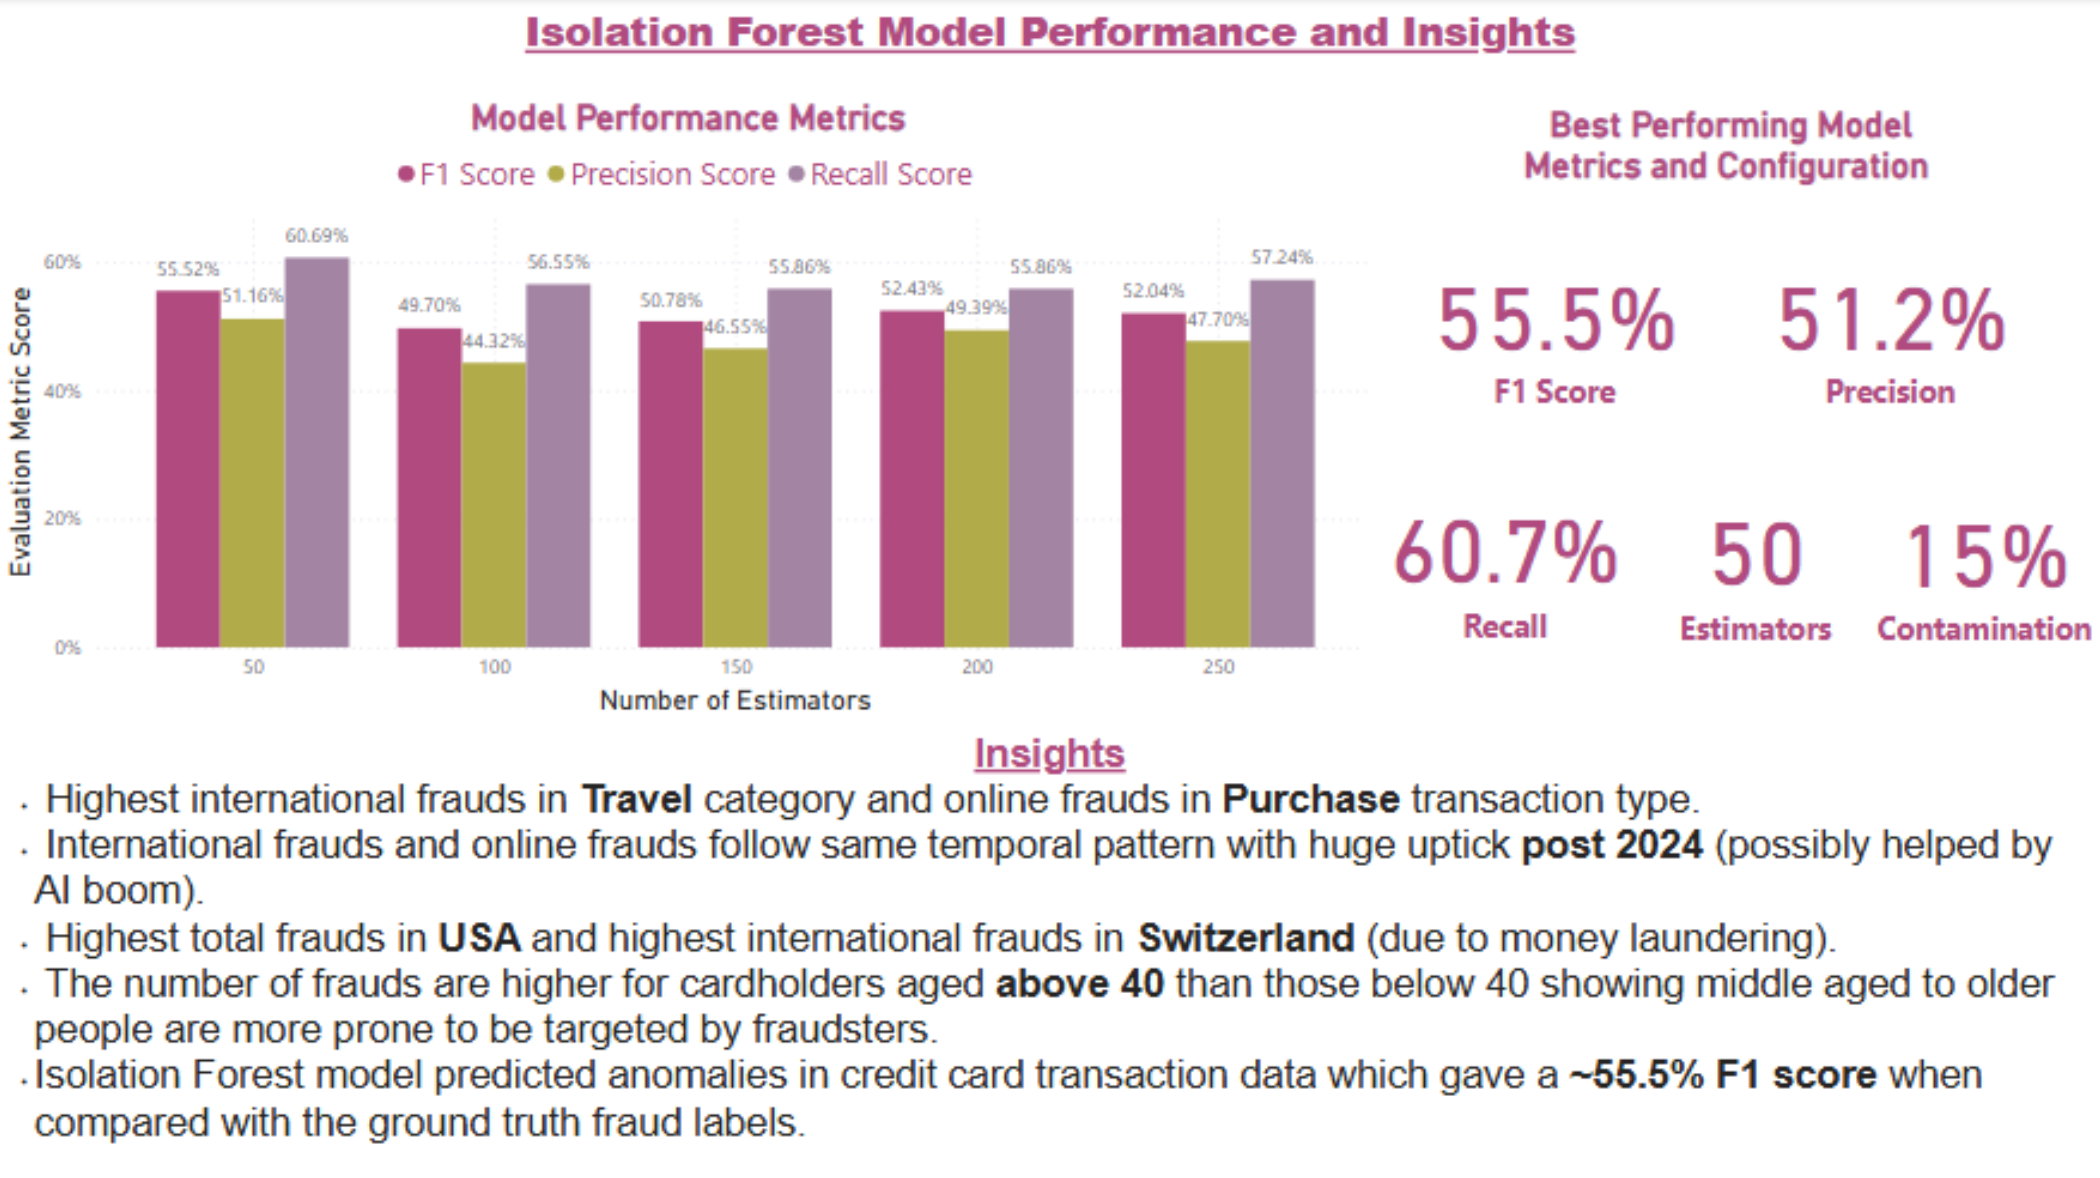

What the dashboard file says about the page in this screenshot:
{"tool":"powerbi","page":{"name":"Model_Performance","canvas":[1280,720],"ordinal":3},"visuals":[{"type":"textbox","box":[287.7,0,704.5,47.1],"z":0},{"type":"clusteredColumnChart","title":"Model Performance Metrics","fields":{"Y":["Sum(Isf_model_metrics.F1-Score)","Sum(Isf_model_metrics.Precision_Score)","Sum(Isf_model_metrics.Recall_Score)"],"Category":["Isf_model_metrics.n_estimators"]},"box":[0,60.7,841.1,380.4],"z":1},{"type":"card","fields":{"Values":["Max(Isf_model_metrics.F1-Score)"]},"box":[866.1,123.2,162.5,155.4],"z":2},{"type":"card","fields":{"Values":["Max(Isf_model_metrics.Precision_Score)"]},"box":[1071.4,121.4,157.1,160.7],"z":3},{"type":"card","fields":{"Values":["Max(Isf_model_metrics.Recall_Score)"]},"box":[828.6,275,175,135.7],"z":4},{"type":"card","fields":{"Values":["Isf_model_metrics.Measure"]},"box":[1003.6,282.1,130.4,125],"z":5},{"type":"textbox","box":[916.1,60.7,275,58.9],"z":6},{"type":"card","fields":{"Values":["Isf_model_metrics.Contamination_Rate"]},"box":[1133.9,283.9,146.4,123.2],"z":7},{"type":"textbox","box":[0,441.1,1280.4,278.6],"z":8}]}

Visuals, with their boxes in screenshot pixels (x1, y1, x2, y2), scaled from the page's 1280x720 canvas onto the 2100x1178 screenshot:
textbox: box(472, 0, 1628, 77)
"Model Performance Metrics" clusteredColumnChart: box(0, 99, 1380, 722)
card - Max(Isf_model_metrics.F1-Score): box(1421, 202, 1688, 456)
card - Max(Isf_model_metrics.Precision_Score): box(1758, 199, 2016, 462)
card - Max(Isf_model_metrics.Recall_Score): box(1359, 450, 1647, 672)
card - Isf_model_metrics.Measure: box(1647, 462, 1860, 666)
textbox: box(1503, 99, 1954, 196)
card - Isf_model_metrics.Contamination_Rate: box(1860, 464, 2099, 666)
textbox: box(0, 722, 2099, 1177)
